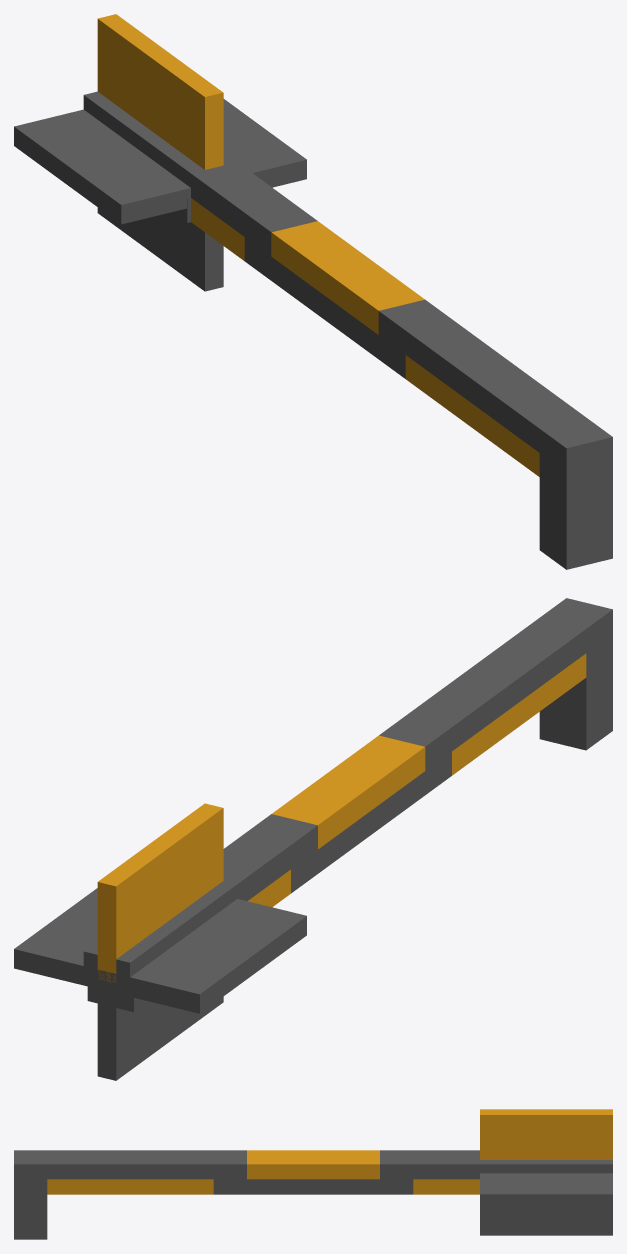
Rendered from ThirdArrowA.fbx.
3 renders of one model, top to bottom at view 1: azimuth 30°, elevation 25°; view 2: azimuth 150°, elevation 25°; view 3: azimuth 270°, elevation 25°, orthographic. The views are drawn at different scales.
Visible parts, largest first — view 1: Cube.008, Cube.005, Cube.003, Cube.010, Cube.009, Cube.002, Cube.006, Cube.001, Cube.004, Cube.012, Cube.011; view 2: Cube.008, Cube.005, Cube.003, Cube.010, Cube.009, Cube.006, Cube.004, Cube.002, Cube.001, Cube.012, Cube.011; view 3: Cube.008, Cube.005, Cube.010, Cube.004, Cube.006, Cube.009, Cube.001, Cube.012, Cube.002, Cube.011.
Boxes of the visible parts, <box> form: Cube.008: <box>378,299,612,472</box>; Cube.005: <box>97,14,223,169</box>; Cube.003: <box>14,109,190,224</box>; Cube.010: <box>83,91,317,255</box>; Cube.009: <box>271,221,424,334</box>; Cube.002: <box>539,453,612,569</box>; Cube.006: <box>97,207,223,291</box>; Cube.001: <box>244,237,405,378</box>; Cube.004: <box>223,99,306,187</box>; Cube.012: <box>405,355,539,476</box>; Cube.011: <box>191,198,244,260</box>; Cube.008: <box>379,598,612,770</box>; Cube.005: <box>97,803,223,982</box>; Cube.003: <box>107,899,306,1013</box>; Cube.010: <box>83,814,317,977</box>; Cube.009: <box>272,735,425,849</box>; Cube.006: <box>97,980,223,1080</box>; Cube.004: <box>14,888,106,990</box>; Cube.002: <box>539,634,612,750</box>; Cube.001: <box>291,752,451,893</box>; Cube.012: <box>452,653,586,775</box>; Cube.011: <box>248,869,290,907</box>; Cube.008: <box>14,1150,246,1179</box>; Cube.005: <box>480,1109,612,1159</box>; Cube.010: <box>380,1150,612,1179</box>; Cube.004: <box>480,1173,612,1206</box>; Cube.006: <box>480,1206,612,1235</box>; Cube.009: <box>247,1150,379,1179</box>; Cube.001: <box>213,1179,413,1194</box>; Cube.012: <box>47,1179,213,1194</box>; Cube.002: <box>14,1179,47,1239</box>; Cube.011: <box>413,1179,479,1194</box>.
Bounding box in the file's own units: 40 × 40 × 180.
